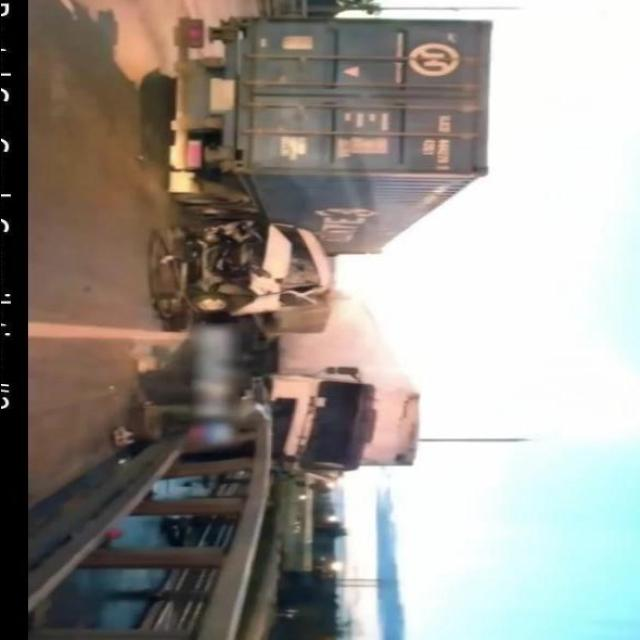accident: (152, 15, 500, 331), (152, 217, 428, 477)
